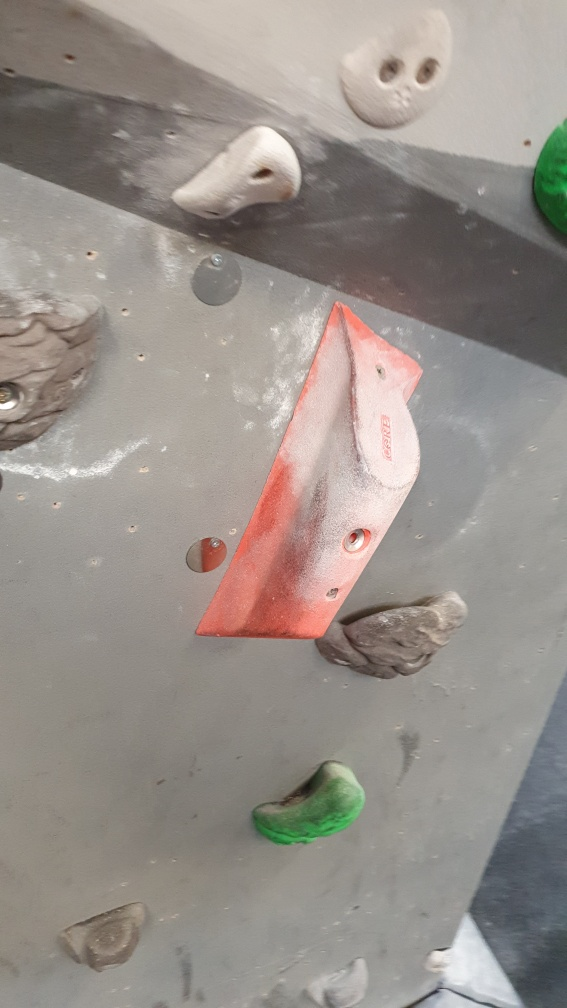Hand Start: (188, 250, 256, 306), (181, 532, 230, 576)
Jug: (1, 284, 115, 460), (311, 587, 469, 678), (250, 754, 370, 853)
Pinch: (189, 298, 427, 647)
